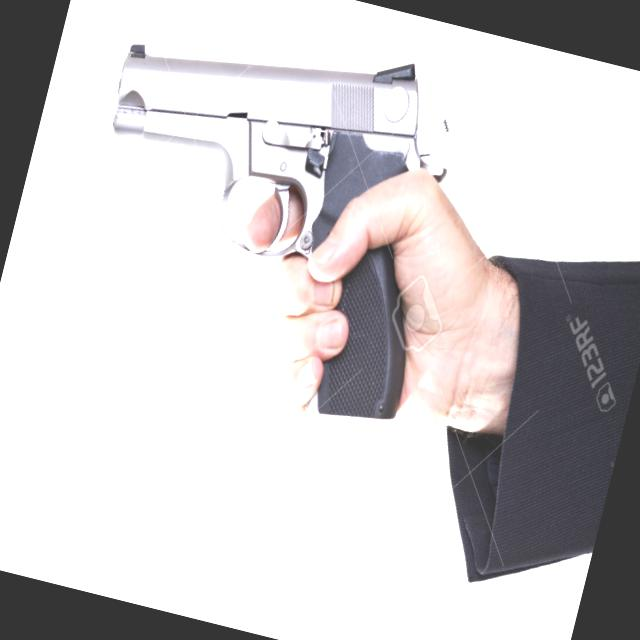handgun: (44, 0, 483, 439)
